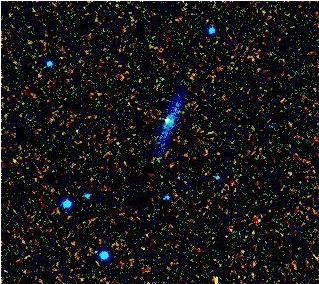star: (146, 107, 176, 137)
